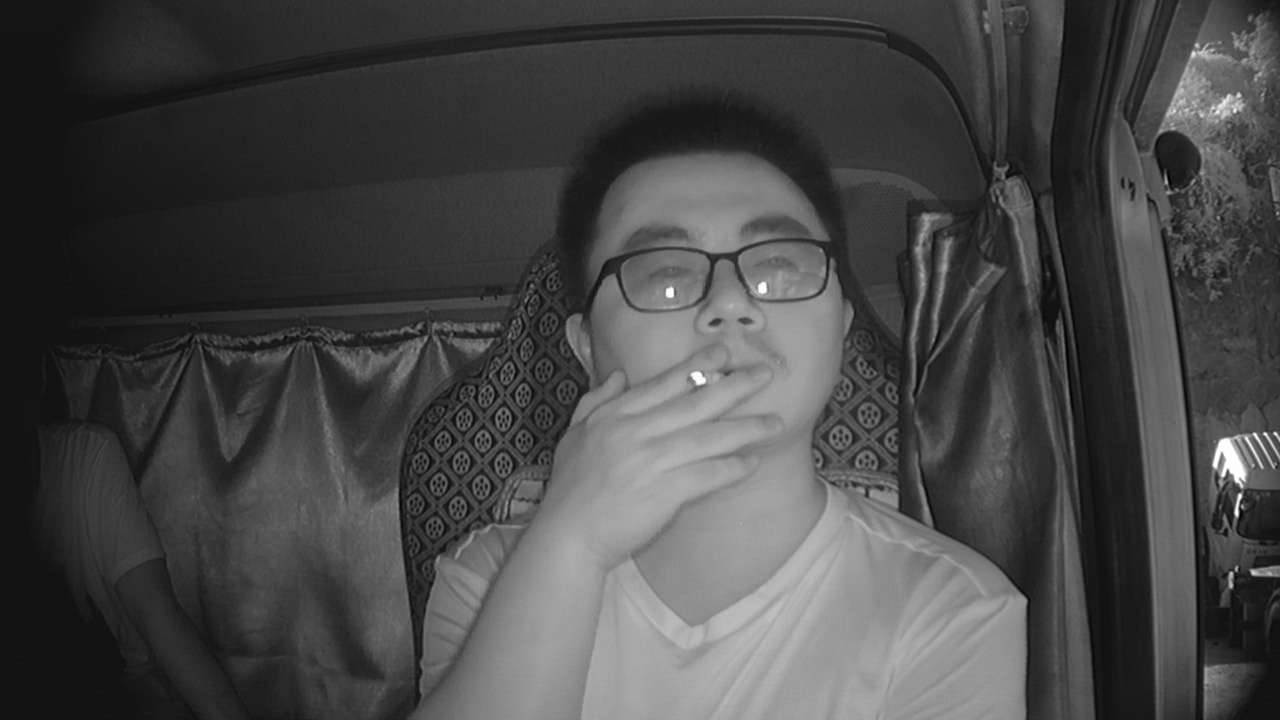hand: (571, 349, 775, 532)
